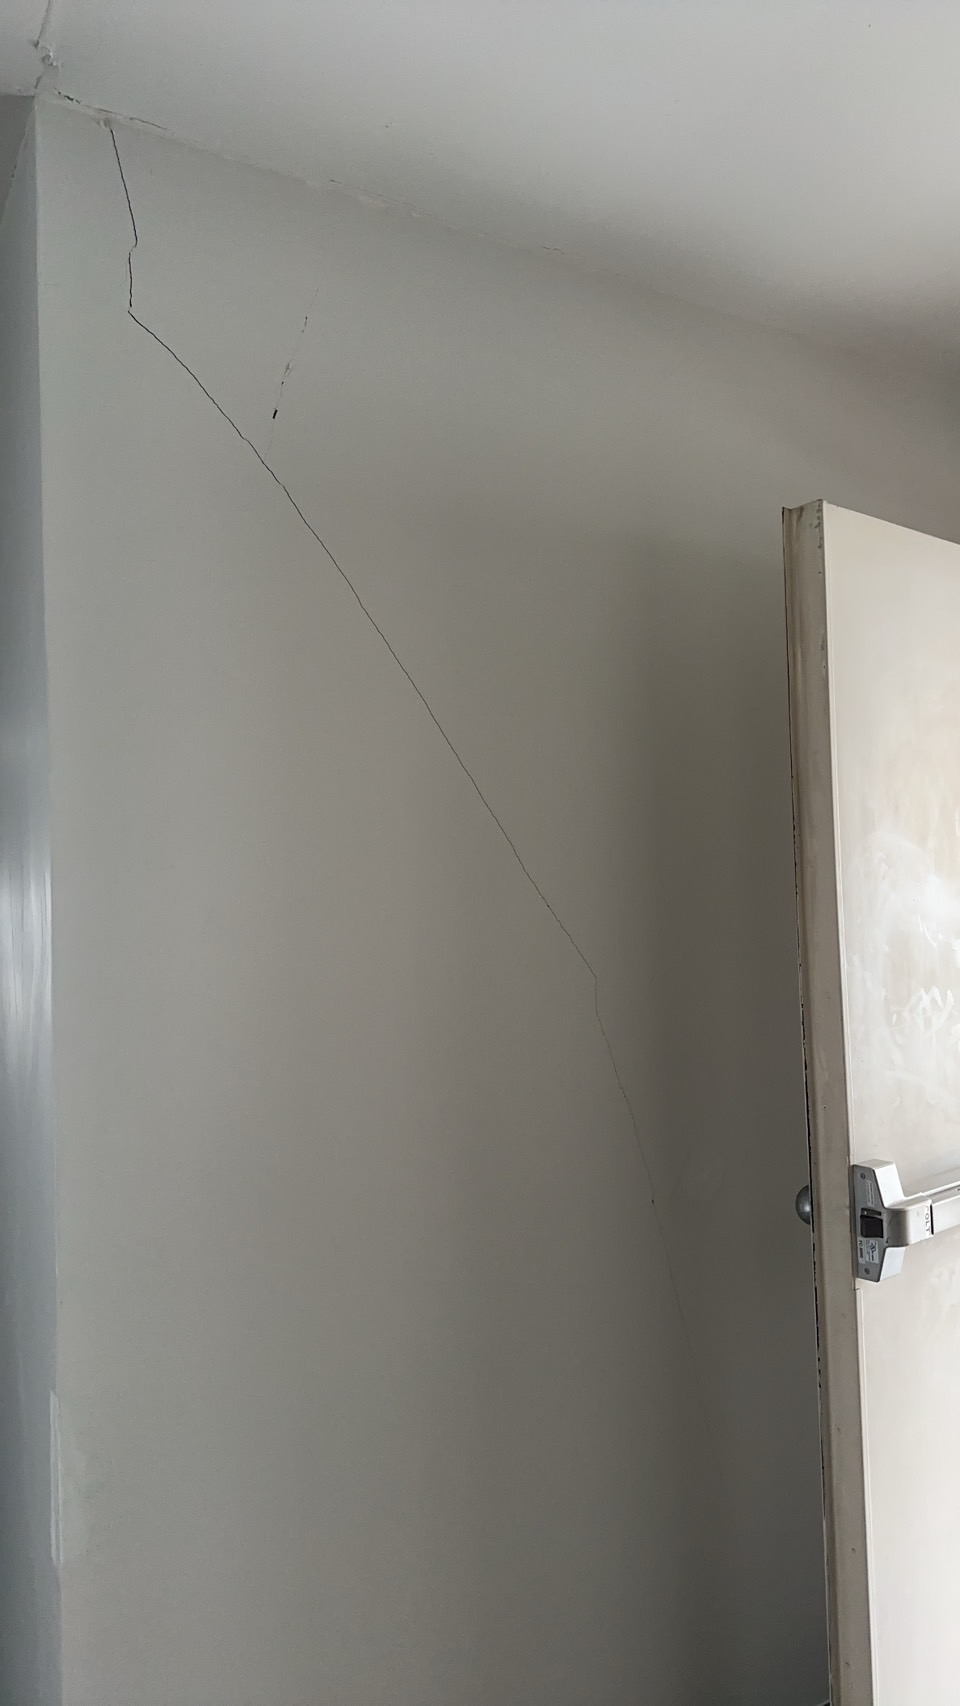Low: (101, 115, 772, 1529)
